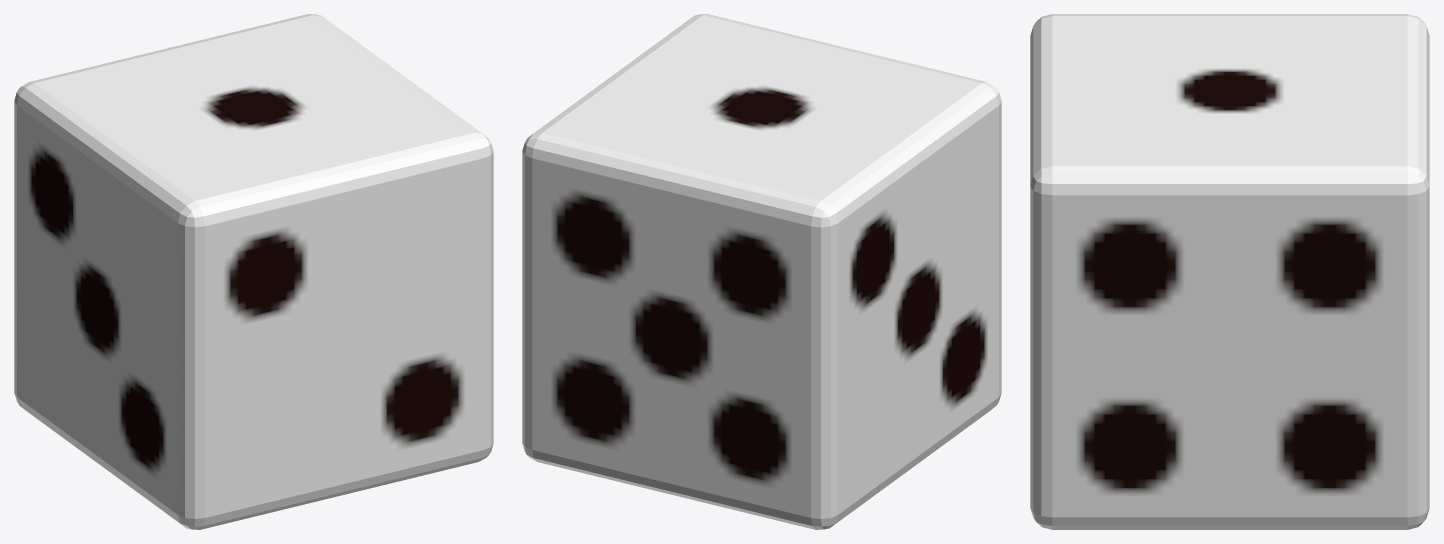
File: Dice.fbx
3 views of the same model, side by side, from view 1: azimuth 30°, elevation 25°; view 2: azimuth 150°, elevation 25°; view 3: azimuth 270°, elevation 25° (orthographic). The views are drawn at different scales.
Parts seen in each view (by area): view 1: Cube; view 2: Cube; view 3: Cube.
Part boxes in pixels (x1,y1,x2,y2): Cube: (14, 14, 493, 529); Cube: (522, 14, 1001, 529); Cube: (1030, 14, 1429, 529).
Size of the model in its own units: 200 by 200 by 200.
